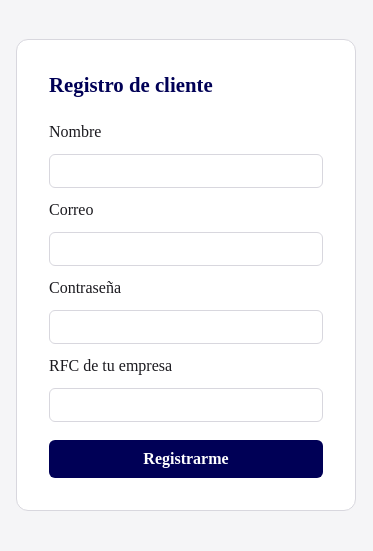
Test case: RegistroPage › shows the backend error message on failure
Type "Juan" into the field labelled "Nombre" at (186, 171), box x1=49 y1=154 x2=323 y2=188
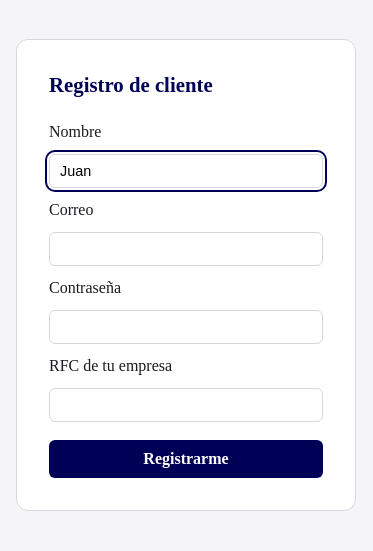
Type "juan@empresa.mx" into the field labelled "Correo" at (186, 249), box x1=49 y1=232 x2=323 y2=266
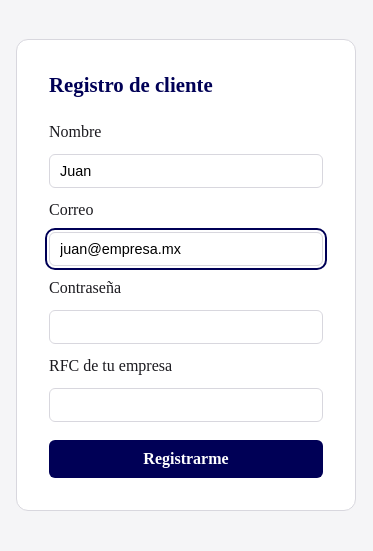
Type "clave1234" into the password field labelled "Contraseña" at (186, 327), box x1=49 y1=310 x2=323 y2=344
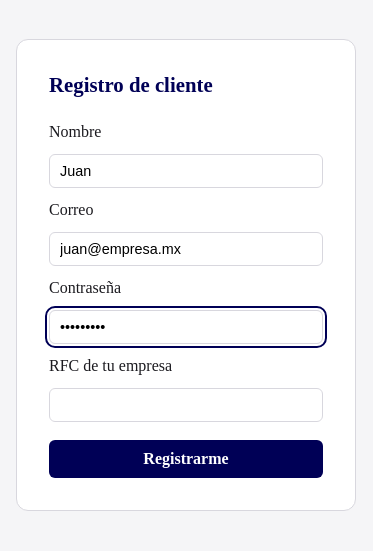
Type "AAA010101AA1" into the field labelled "RFC de tu empresa" at (186, 405), box x1=49 y1=388 x2=323 y2=422
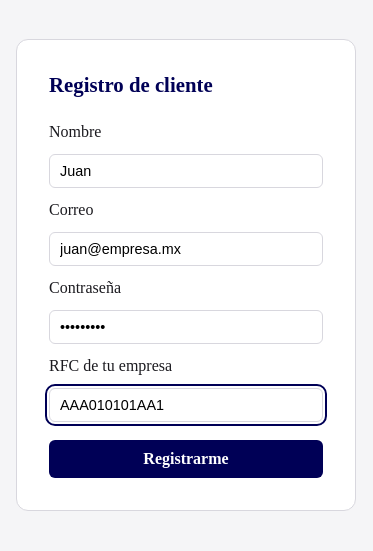
Click the button "Registrarme" at (186, 459), box x1=49 y1=440 x2=323 y2=478
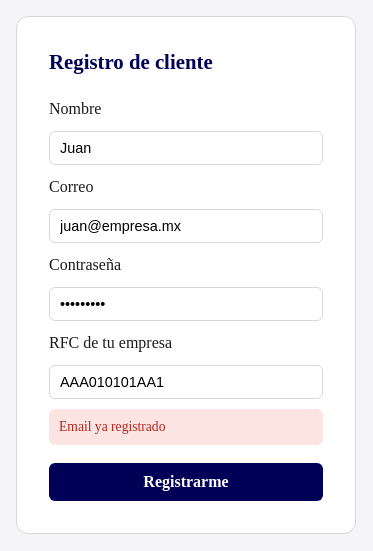
Result: the message reads "Email ya registrado" at x1=59 y1=419 x2=166 y2=434
